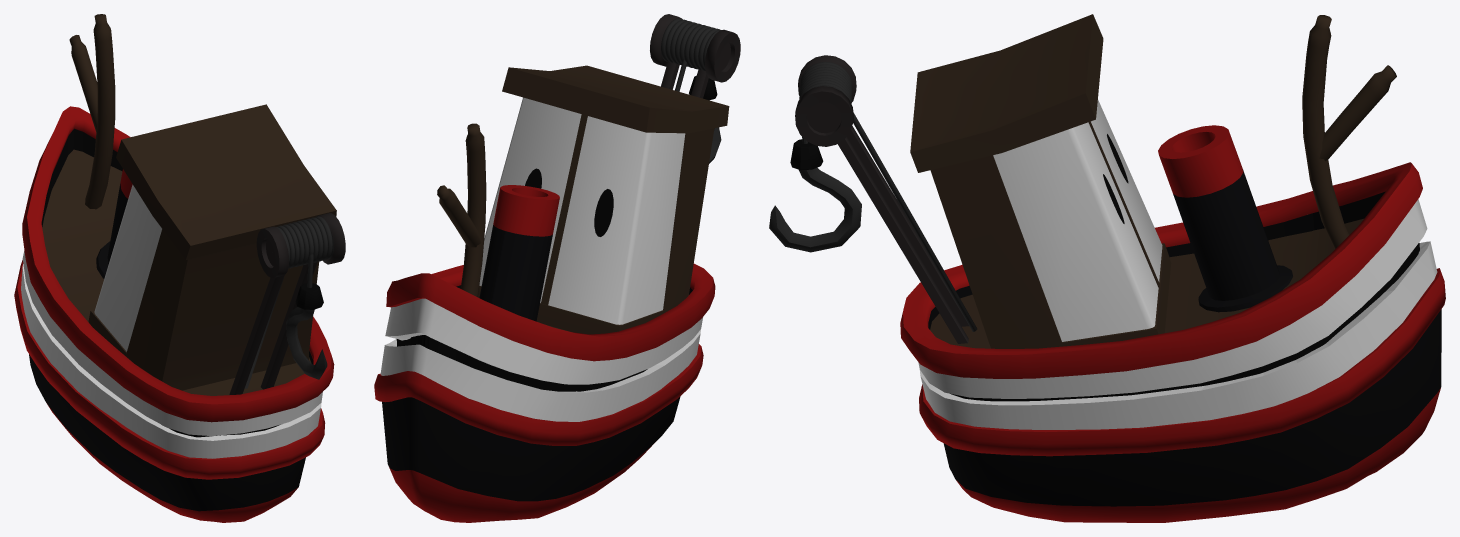
The model's file is PuffyAnimation.fbx.
3 renders of one model, left to right at view 1: azimuth 30°, elevation 25°; view 2: azimuth 150°, elevation 25°; view 3: azimuth 270°, elevation 25°, orthographic. The views are drawn at different scales.
Visible parts, largest first — view 1: Animation_Puffer; view 2: Animation_Puffer; view 3: Animation_Puffer.
Boxes of the visible parts, box(x1,y1,x2,y2) form: Animation_Puffer: box(14, 14, 345, 522); Animation_Puffer: box(374, 14, 740, 522); Animation_Puffer: box(769, 14, 1445, 522).
Bounding box in the file's own units: 22.88 × 42.68 × 53.4.
